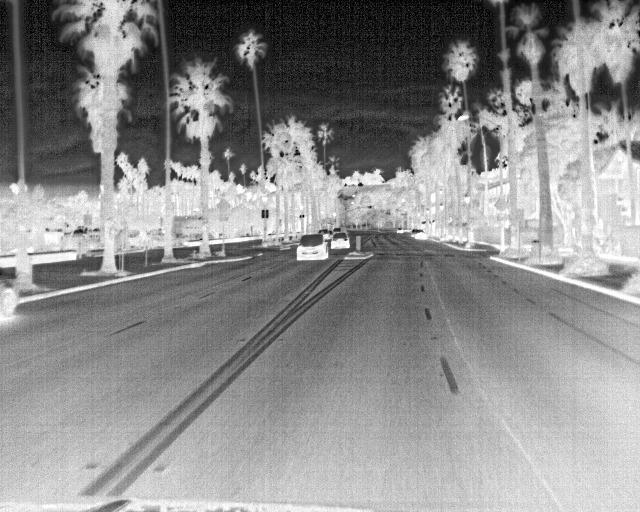car: (294, 233, 332, 263), (0, 275, 21, 318), (328, 230, 348, 249), (317, 227, 334, 241), (410, 227, 424, 239), (394, 225, 404, 234)
